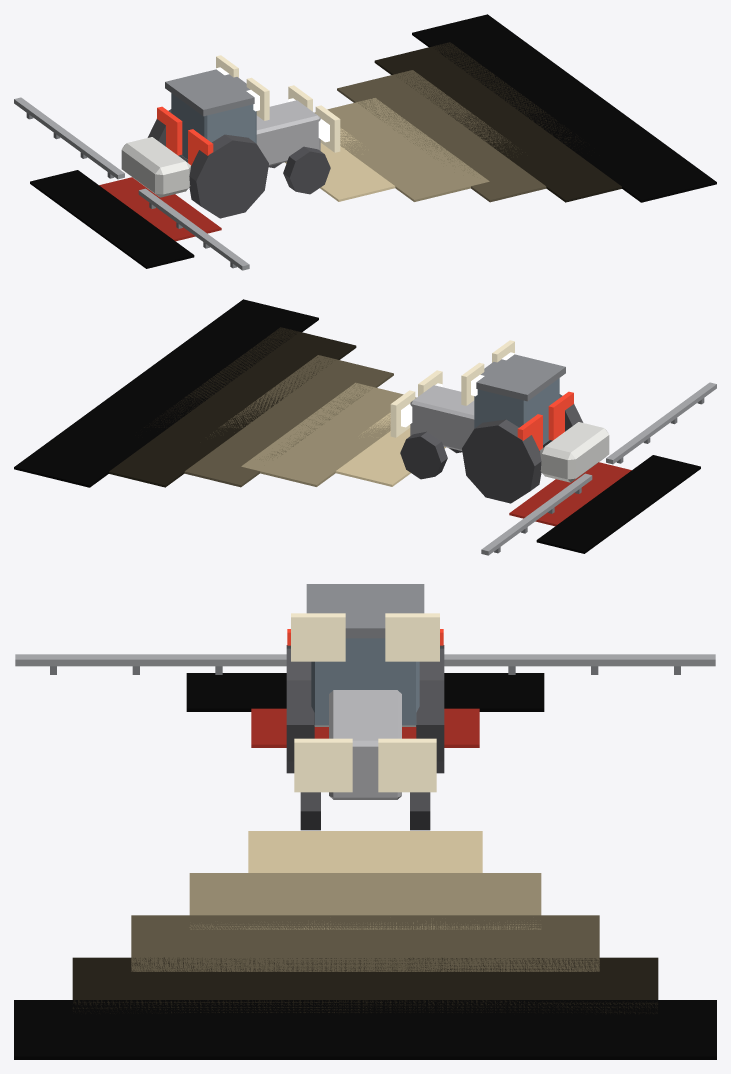
Rendered from veh_tractor_sprayer.glb.
The picture shows the model from 3 angles, top to bottom: view 1: azimuth 30°, elevation 25°; view 2: azimuth 150°, elevation 25°; view 3: azimuth 270°, elevation 25°; orthographic projection. The views are drawn at different scales.
Parts seen in each view (by area): view 1: veh_tractor_sprayer; view 2: veh_tractor_sprayer; view 3: veh_tractor_sprayer.
Part boxes in pixels (box(x1,y1,x2,y2)): veh_tractor_sprayer: box(14, 14, 716, 270); veh_tractor_sprayer: box(14, 299, 716, 555); veh_tractor_sprayer: box(14, 584, 716, 1059).
Size of the model in its own units: 1 by 0.217 by 0.7728.
